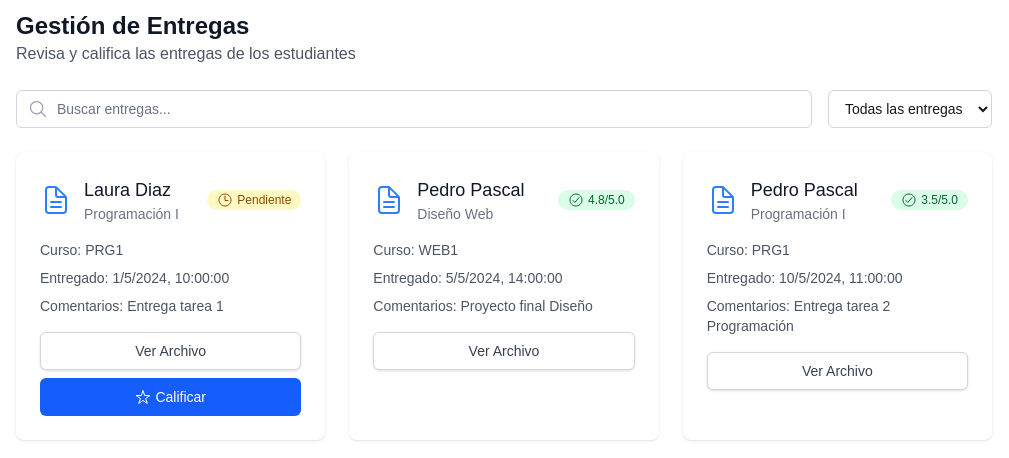
SubmissionsPage › debería filtrar entregas por término de búsqueda (nombre de estudiante)
Type "Laura Diaz" into the field with placeholder "Buscar entregas...".
click(414, 109); type("Laura Diaz")  # box [16,90,812,128]
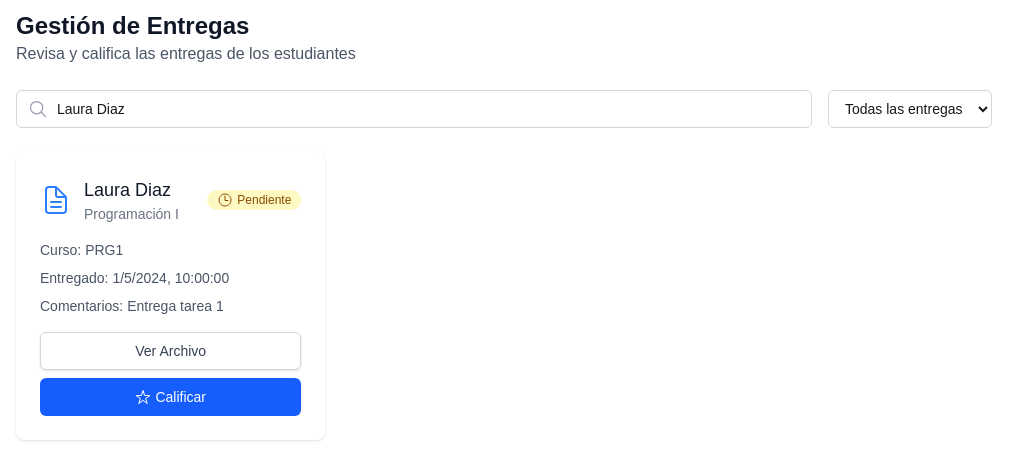
Expected: the heading "Laura Diaz" is shown, [84,176,179,204]
Expected: the heading "Pedro Pascal" is gone
